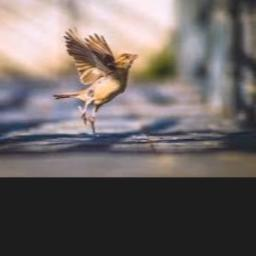Sparrow: (54, 26, 139, 136)
